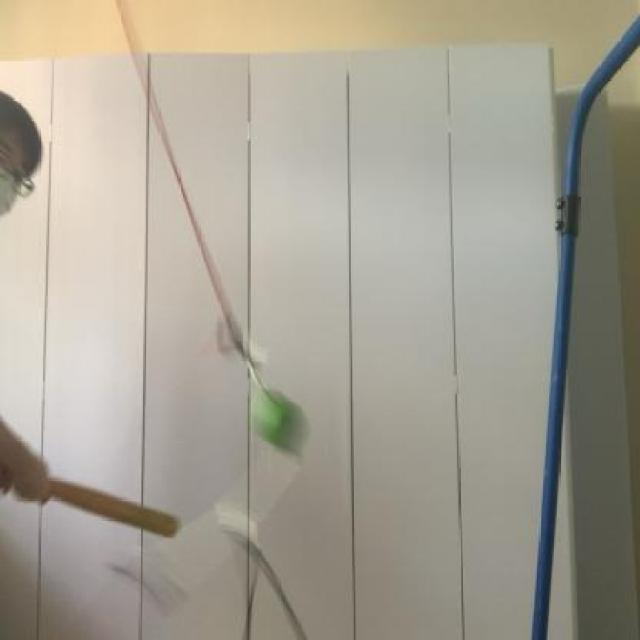baseball: (230, 376, 312, 464)
